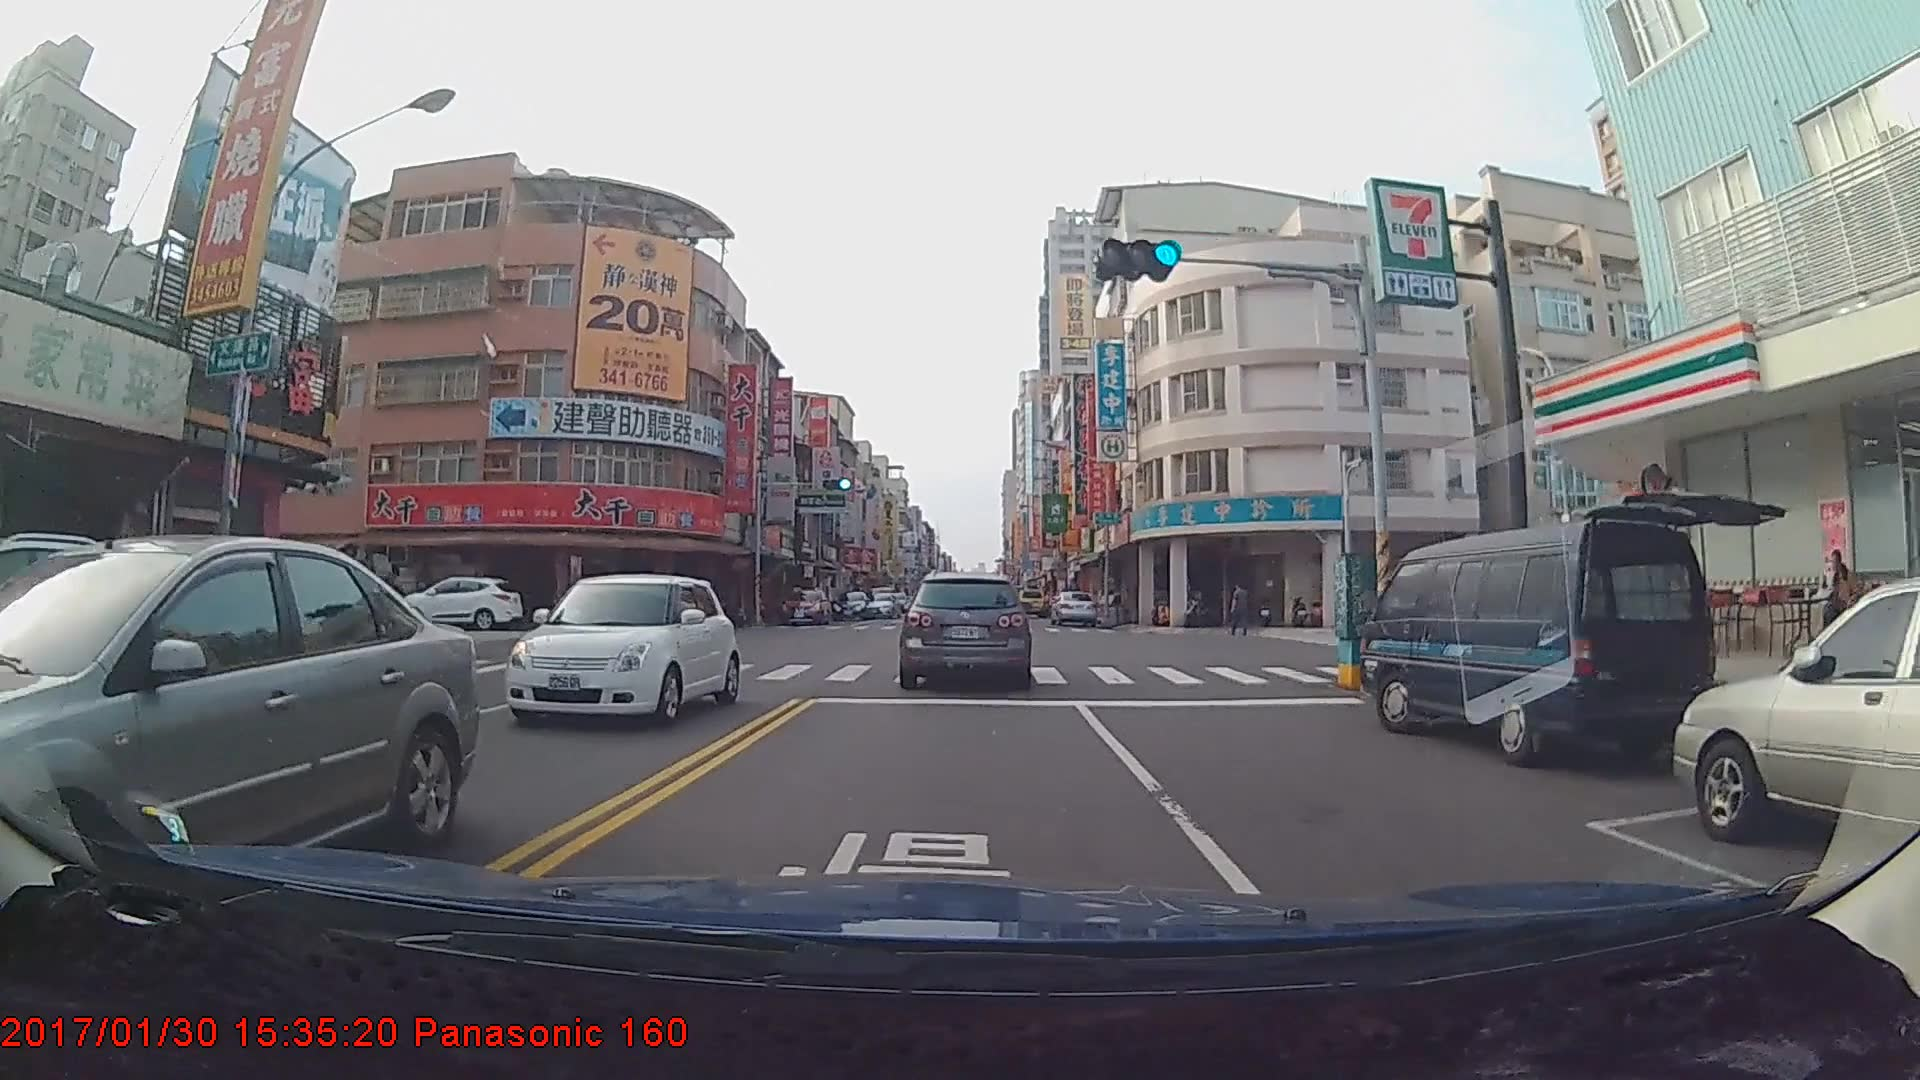pedestrian: (1231, 584, 1252, 639)
vehicle: (0, 530, 480, 911), (1352, 512, 1727, 772), (1681, 579, 1919, 901), (508, 567, 742, 729), (900, 569, 1030, 686), (396, 575, 522, 630), (1049, 588, 1099, 628), (778, 587, 827, 626), (832, 590, 871, 618), (1012, 583, 1045, 614), (864, 590, 900, 618)
